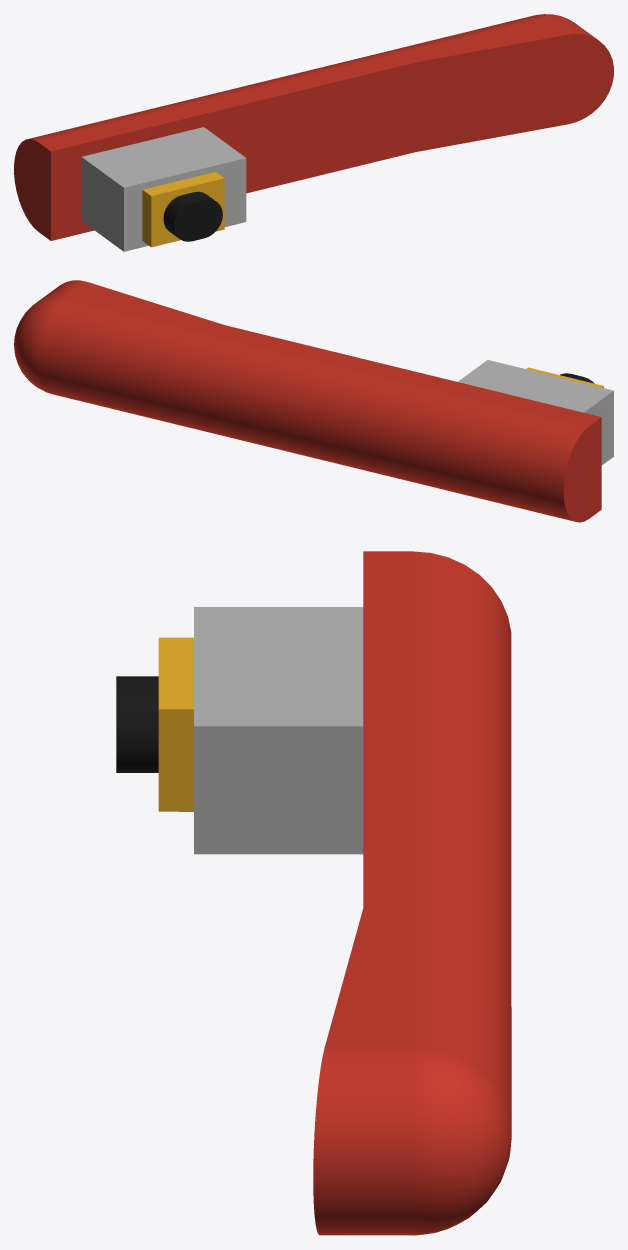
Rendered from SuperTanker.obj.
The picture shows the model from 3 angles, top to bottom: view 1: azimuth 30°, elevation 25°; view 2: azimuth 150°, elevation 25°; view 3: azimuth 270°, elevation 25°; orthographic projection. The views are drawn at different scales.
Visible parts, largest first — view 1: hull, superStructure, chimney1, chimney2; view 2: hull, superStructure; view 3: hull, superStructure, chimney1, chimney2.
Part boxes in pixels (x1,y1,x2,y2): hull: [14, 14, 613, 240]; superStructure: [81, 127, 246, 251]; chimney1: [142, 172, 224, 247]; chimney2: [163, 191, 222, 241]; hull: [14, 280, 601, 522]; superStructure: [458, 360, 613, 465]; hull: [313, 551, 511, 1235]; superStructure: [194, 607, 363, 854]; chimney1: [158, 637, 193, 811]; chimney2: [116, 676, 158, 772].
Size of the model in its own units: 90000 by 14000 by 28000.
